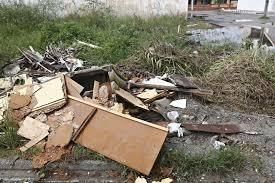rubble: (9, 48, 230, 143)
